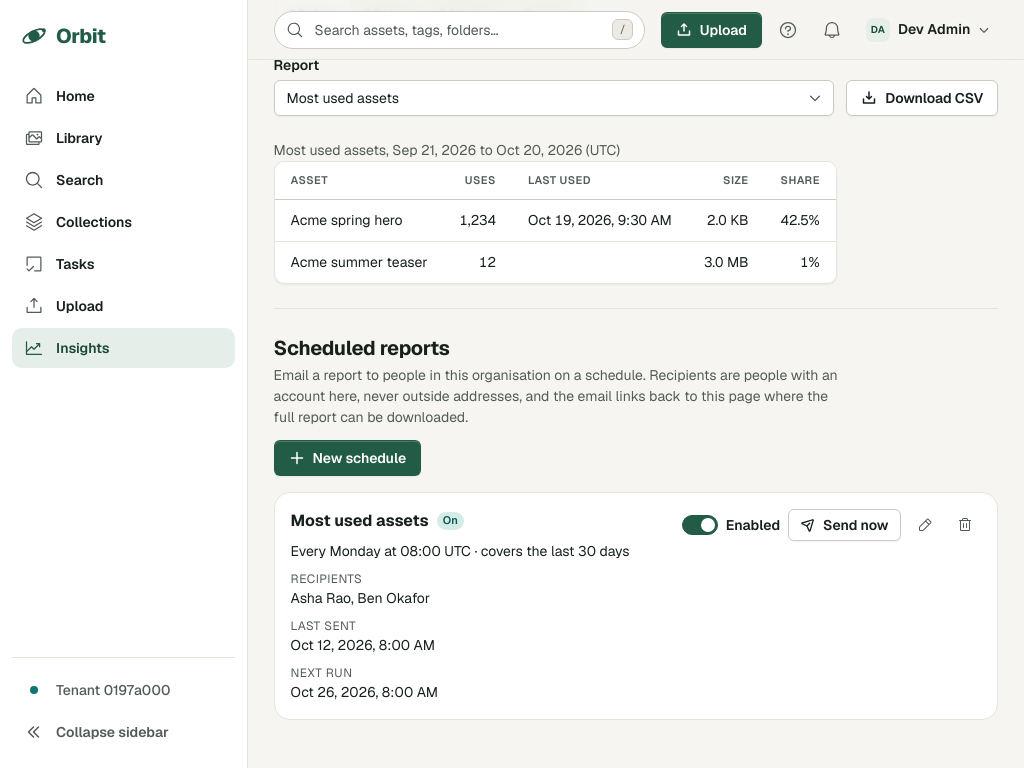
Test: Schedules list › sends now and says so, or says why it could not
(page scrolled)
Click the button with aria-label "Send Most used assets now": (845, 525) [788,509,901,541]
(page scrolled)
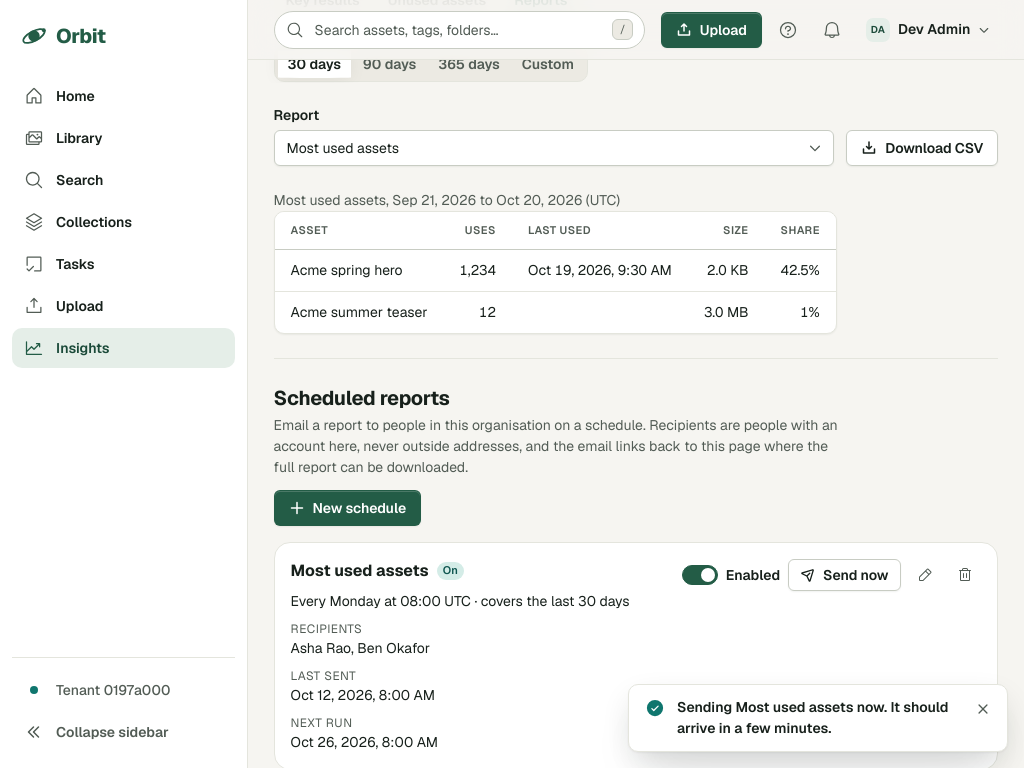
Result: the text "Sending Most used assets now" is shown at [677,698,948,737]
Click the button with aria-label "Send Most used assets now": (845, 575) [788,559,901,591]
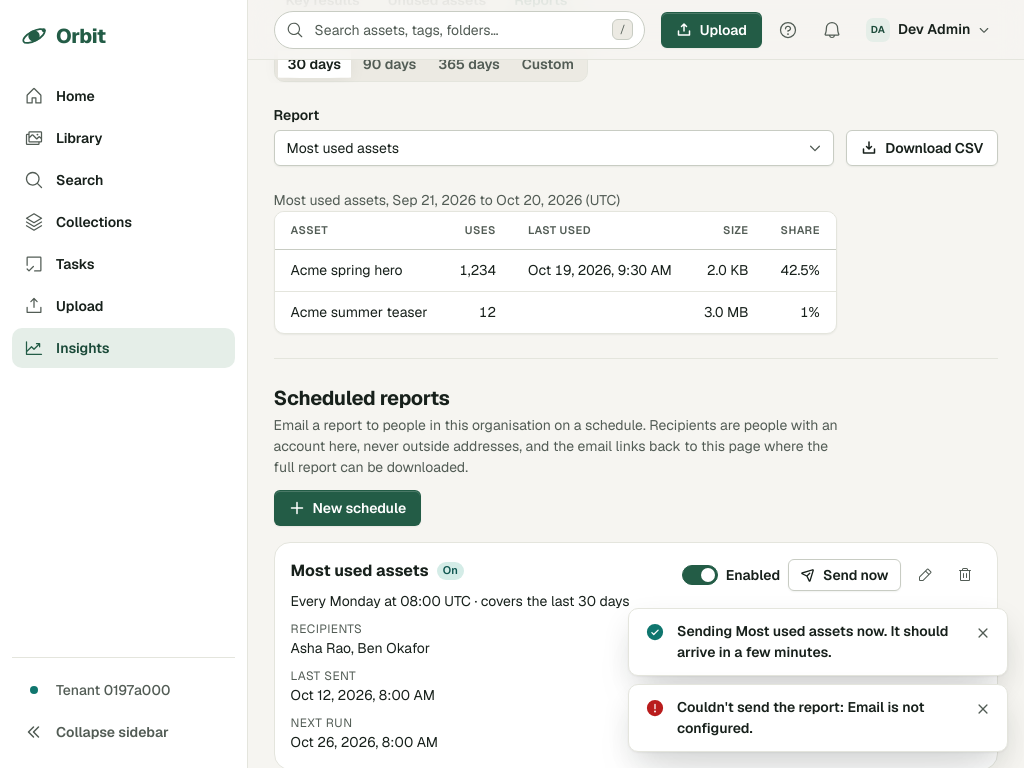
Result: the text "Couldn't send the report: Email is not configured." is shown at [677,697,955,739]
